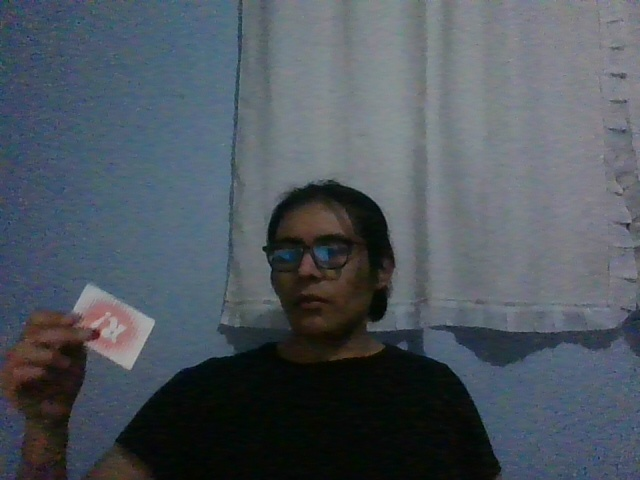tarjeta: (69, 283, 156, 371)
